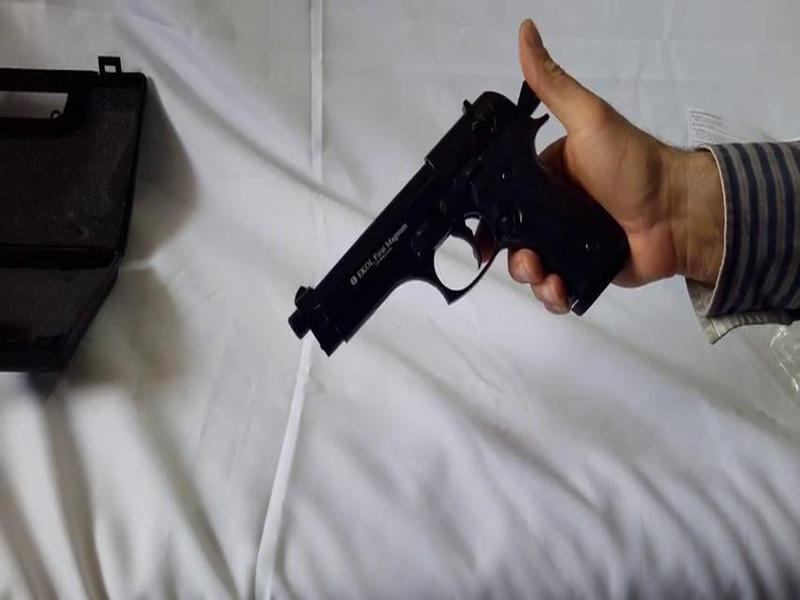Pistola: (218, 72, 639, 367)
